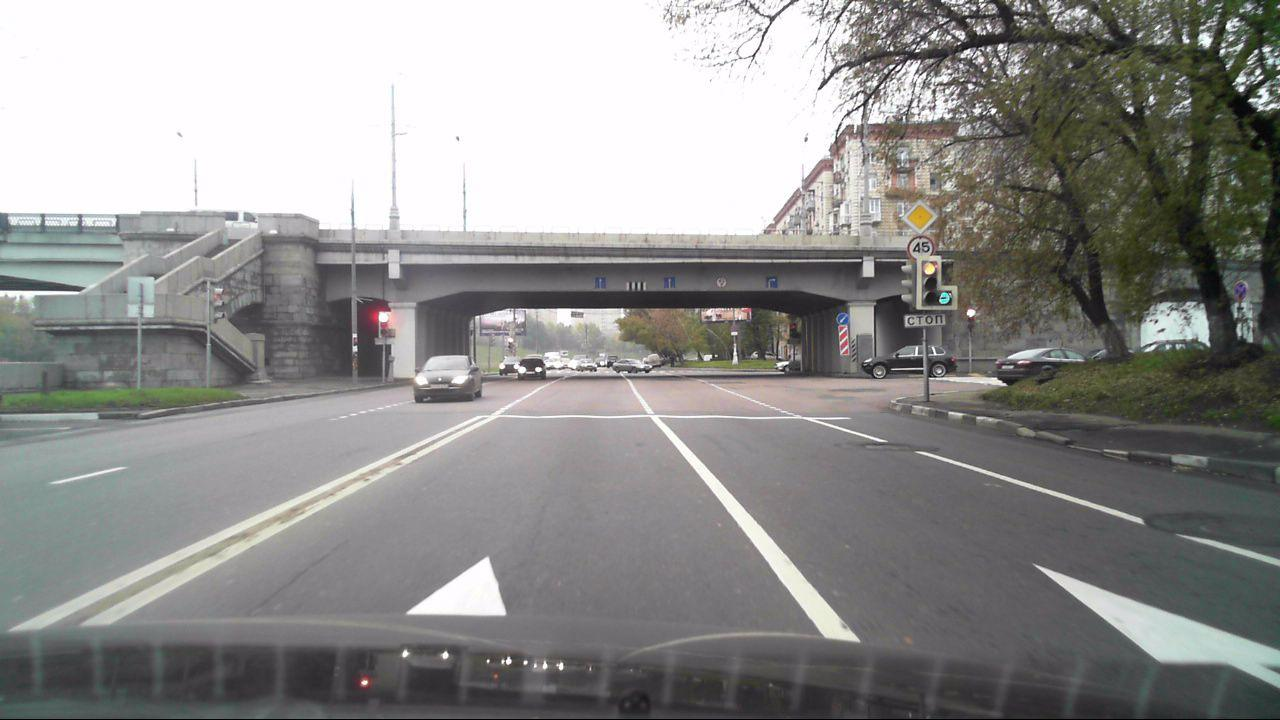2_1: (901, 199, 938, 233)
3_13: (909, 234, 934, 260), (716, 274, 728, 289)
4_2_2: (836, 313, 849, 325)
5_15_2: (592, 275, 608, 289), (663, 275, 676, 289), (767, 275, 779, 288)
6_16: (904, 312, 947, 328)
8_22_2: (838, 325, 851, 356)
